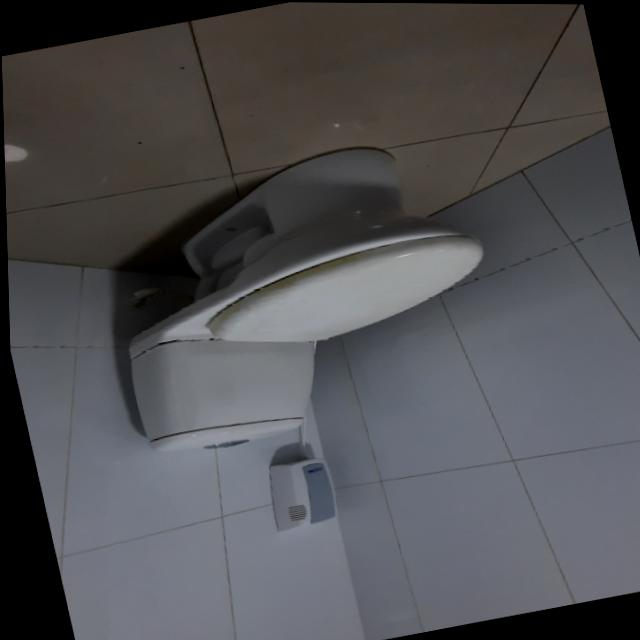toilet: (86, 126, 515, 464)
